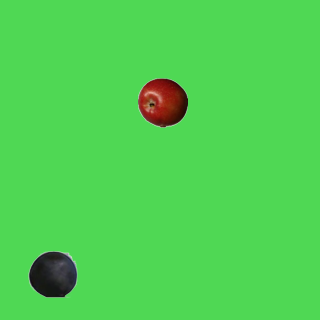Apple Braeburn: (137, 77, 187, 127)
Grape Blue: (27, 248, 77, 298)
